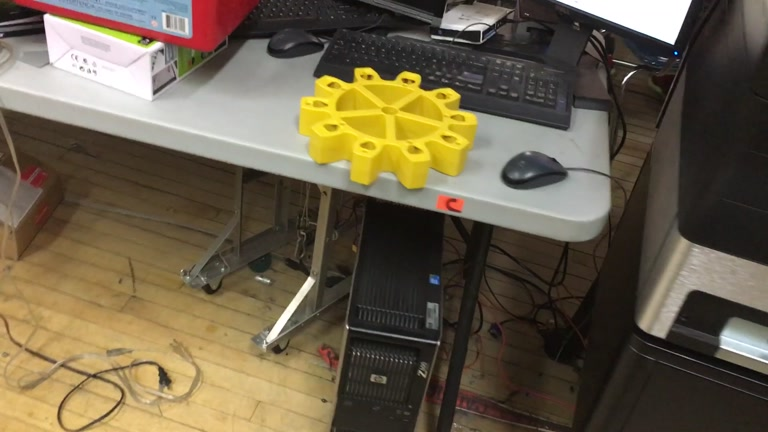gear: (299, 64, 478, 191)
